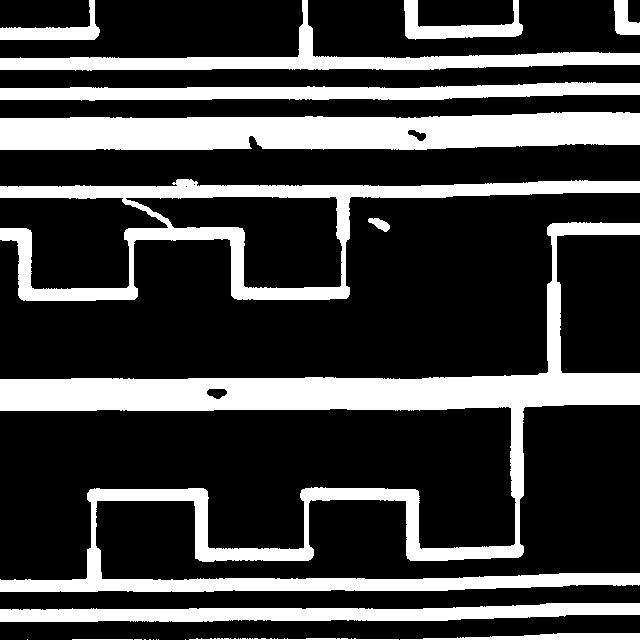copper: (197, 379, 236, 408), (398, 120, 435, 150)
mousebite: (162, 169, 207, 199)
open: (112, 188, 184, 242)
pin-hole: (358, 208, 399, 241)
spur: (239, 126, 271, 162)
